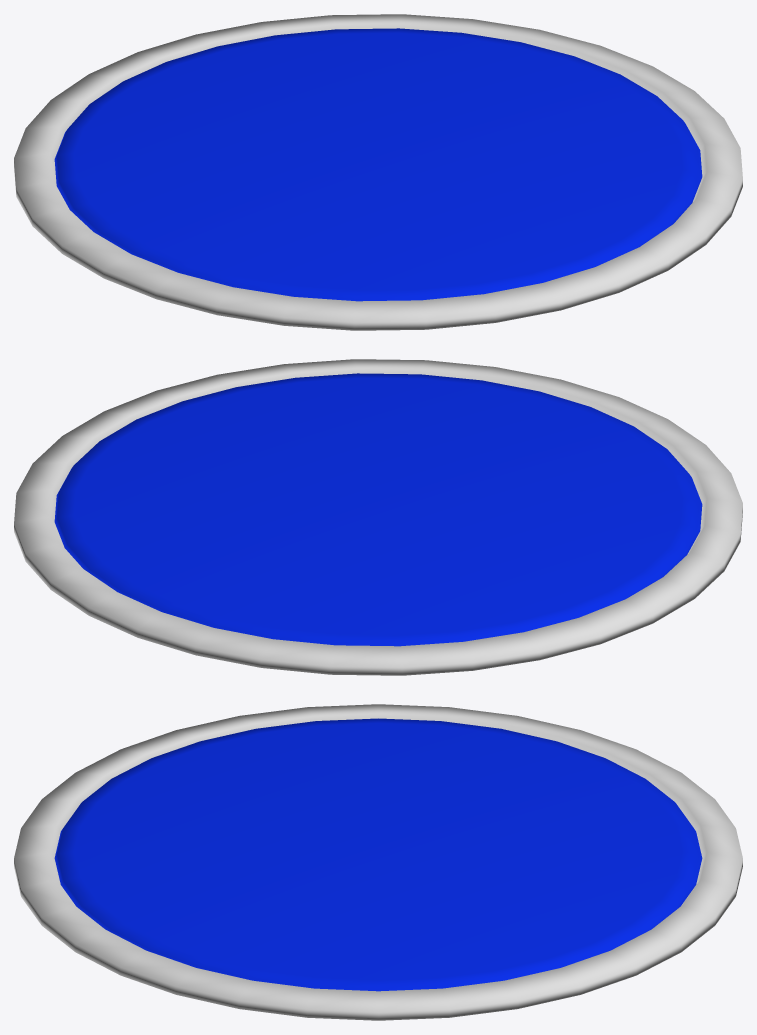
File: board.fbx
3 renders of one model, top to bottom at view 1: azimuth 30°, elevation 25°; view 2: azimuth 150°, elevation 25°; view 3: azimuth 270°, elevation 25°, orthographic.
Parts seen in each view (by area): view 1: Board; view 2: Board; view 3: Board.
Boxes of the visible parts, bbox=[...] form: Board: bbox=[14, 14, 742, 330]; Board: bbox=[14, 359, 742, 675]; Board: bbox=[14, 704, 742, 1020].
Bounding box in the file's own units: 2 × 0.0451 × 2.
